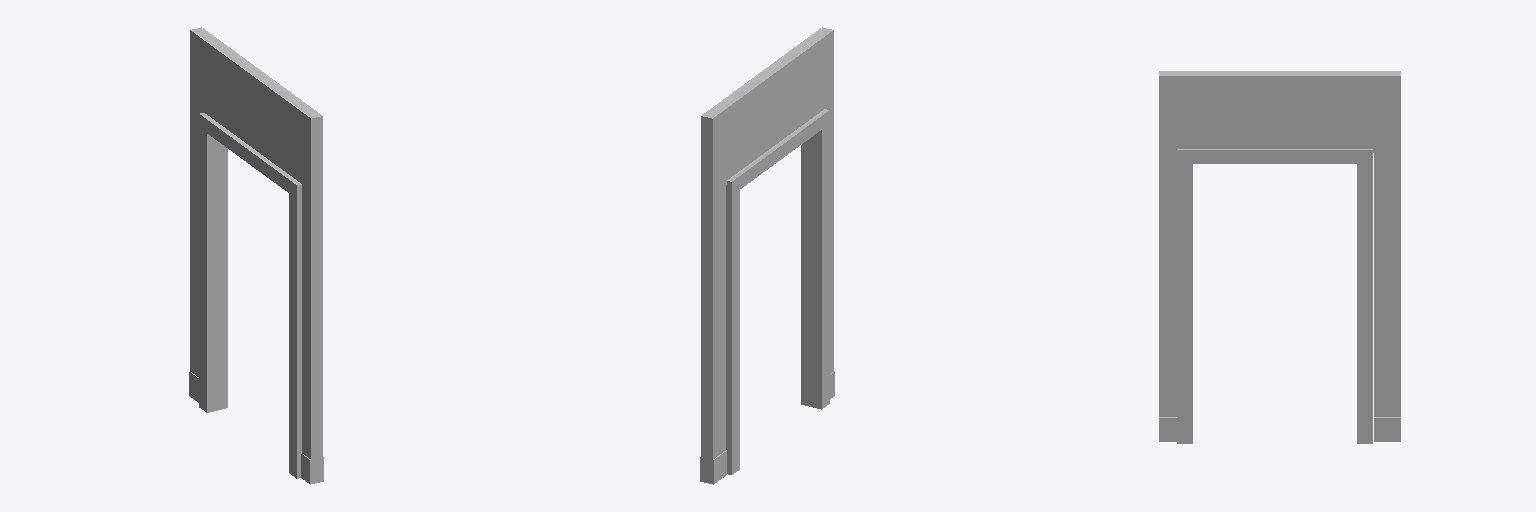
Rendered from Batente_sem_porta.obj.
3 renders of one model, left to right at view 1: azimuth 30°, elevation 25°; view 2: azimuth 150°, elevation 25°; view 3: azimuth 270°, elevation 25°, orthographic.
Parts seen in each view (by area): view 1: Batente_sem_porta; view 2: Batente_sem_porta; view 3: Batente_sem_porta.
Boxes of the visible parts, box(x1,y1,x2,y2) form: Batente_sem_porta: box(189, 27, 323, 484); Batente_sem_porta: box(700, 27, 834, 484); Batente_sem_porta: box(1159, 71, 1400, 443).
Bounding box in the file's own units: 0.3569 × 5.97 × 3.58.